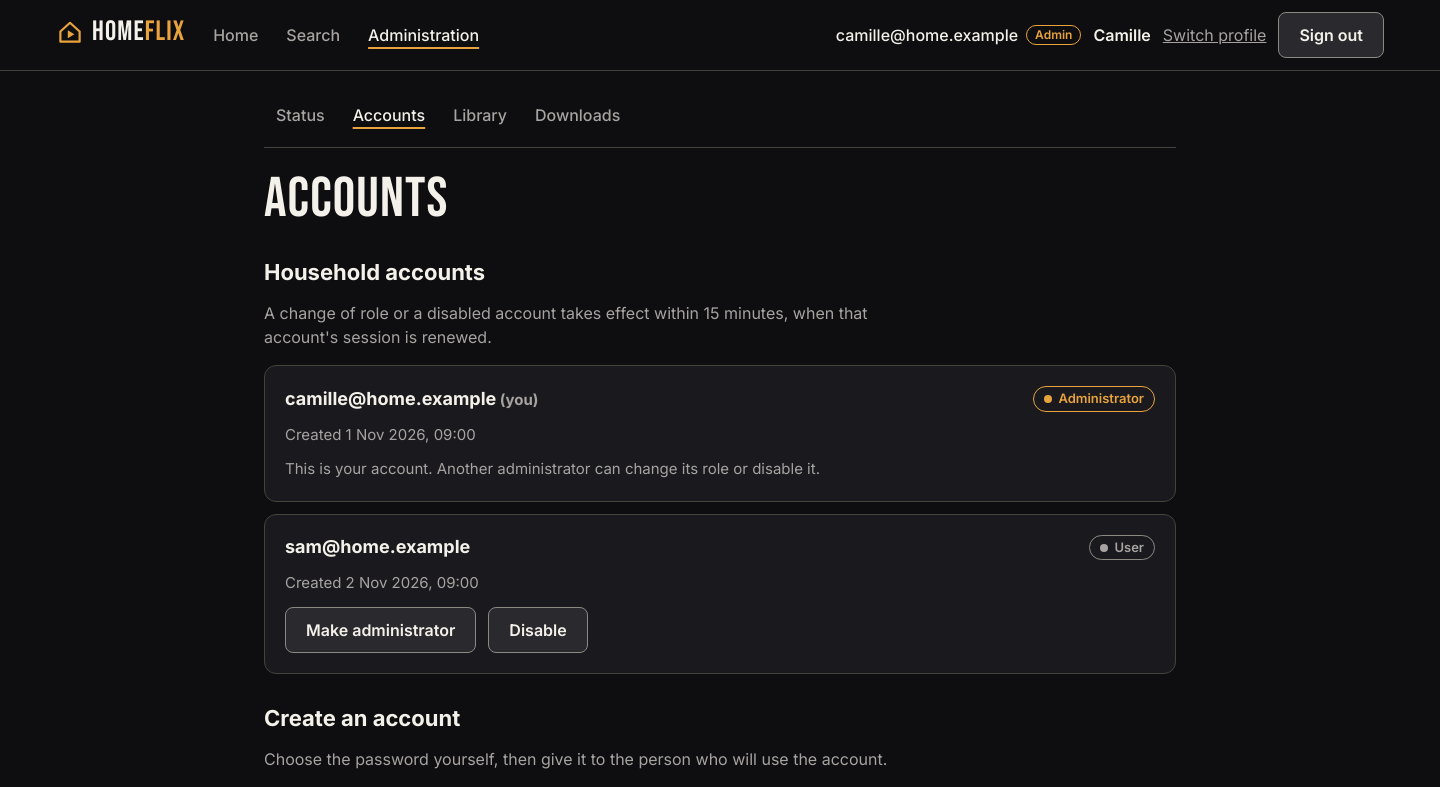
it: AccountsPage › makes a user an administrator and shows the list again
What coordinates should you click on to do the following:
click the button with aria-label "Make sam@home.example an administrator"
I would click on:
 (381, 630)
Its box is [285,607,476,653].
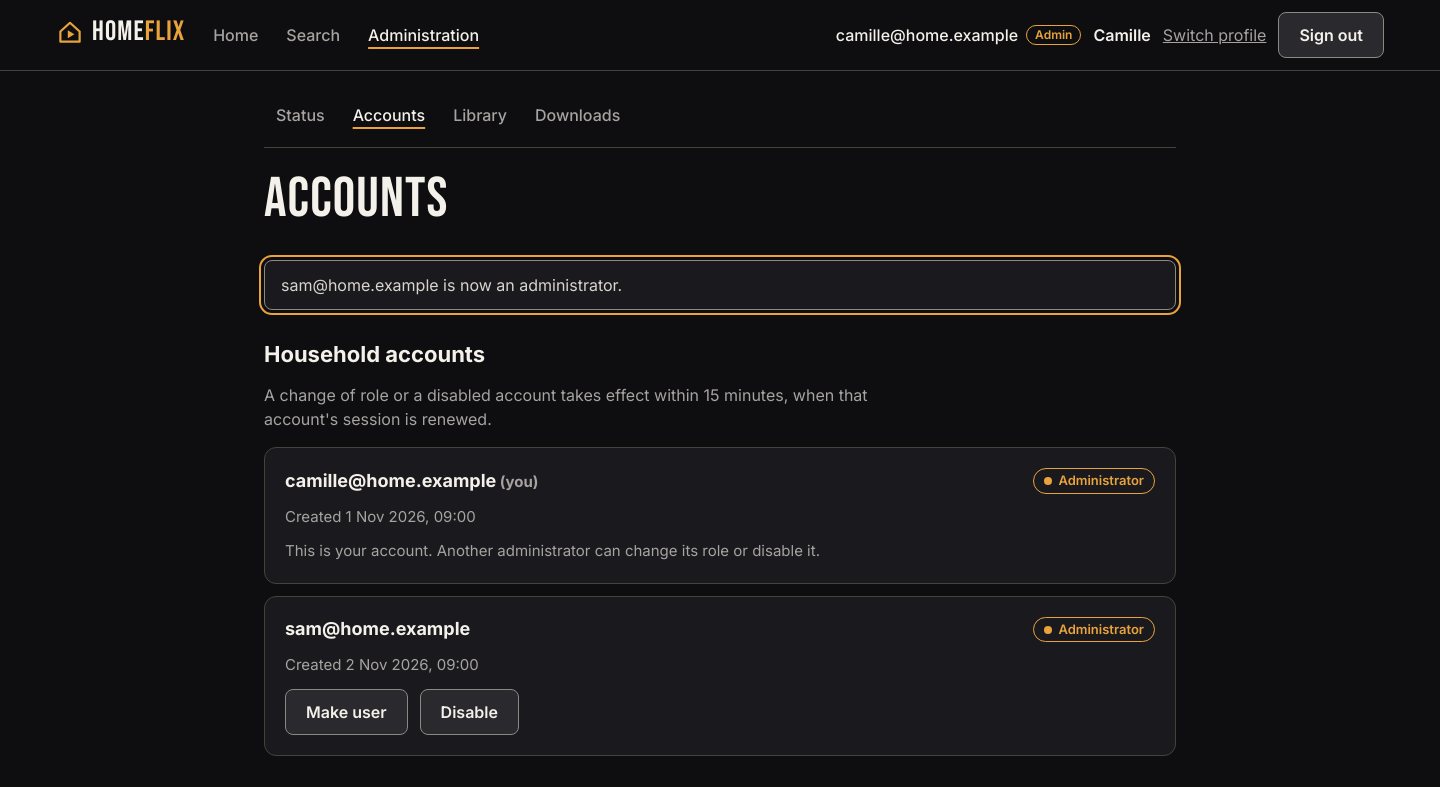
Result: the message reads "sam@home.example is now an administrator." at [281,275,622,295]
Result: the 2nd text "Administrator" is shown at [1033,617,1155,642]
